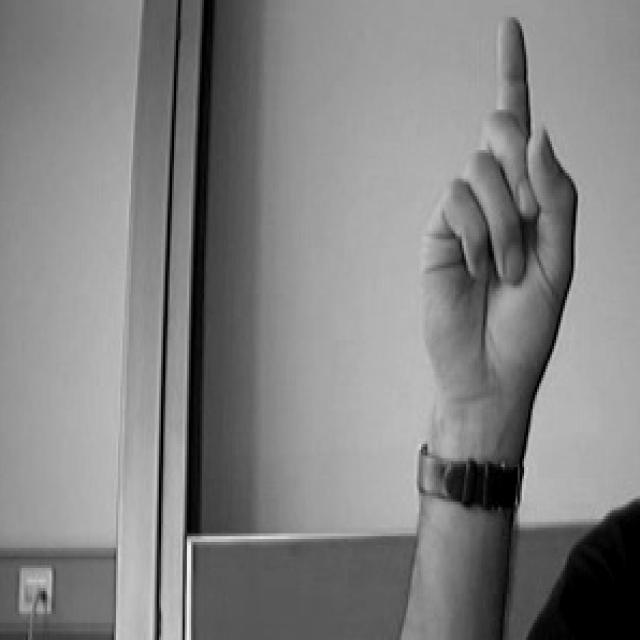D: (326, 2, 603, 468)
